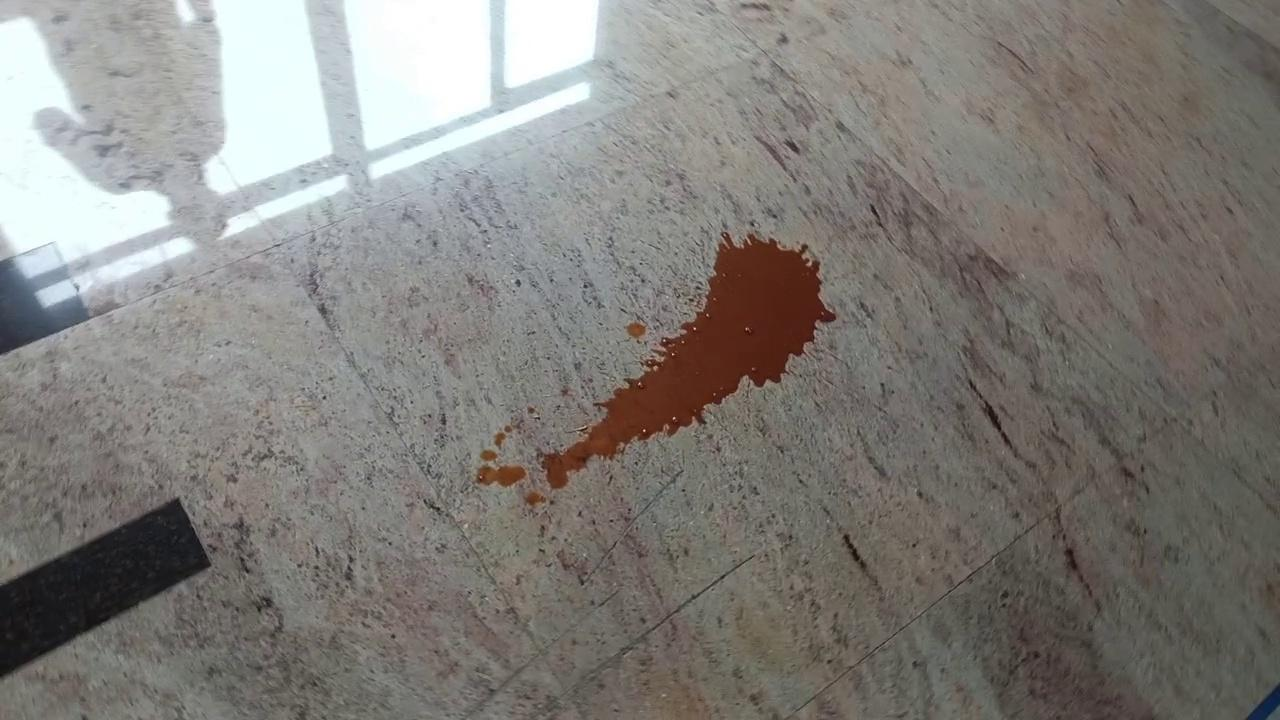dirty_floor: (477, 230, 836, 501)
